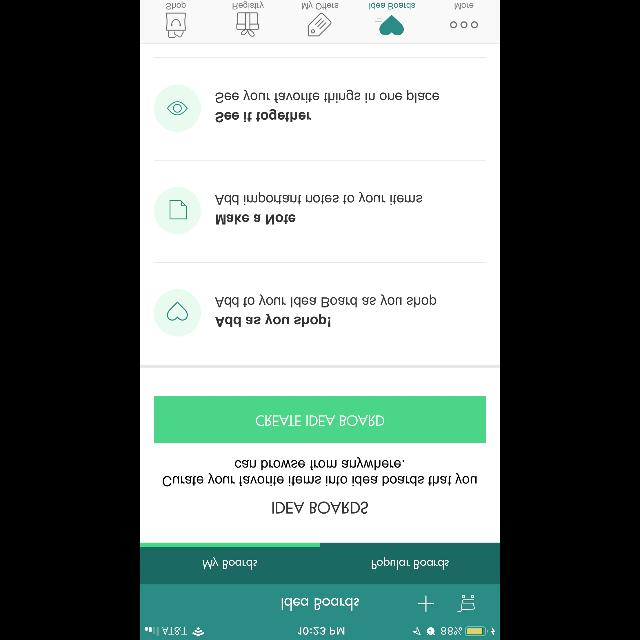icon: (154, 186, 202, 234), (154, 85, 202, 132), (154, 290, 202, 336), (374, 15, 404, 35), (308, 13, 332, 37), (237, 12, 260, 36), (166, 12, 186, 38), (458, 594, 474, 612), (418, 594, 434, 612), (450, 22, 478, 28)
text: (163, 457, 477, 487), (216, 294, 437, 308), (215, 192, 422, 205), (215, 90, 439, 102), (216, 314, 330, 326), (272, 501, 368, 514), (215, 110, 311, 122), (372, 556, 448, 570), (282, 598, 358, 610), (216, 213, 296, 224), (202, 556, 258, 570), (369, 2, 415, 10), (302, 2, 338, 10), (232, 2, 264, 10), (166, 2, 186, 10), (454, 3, 474, 9)
textbutton: (154, 396, 486, 442)
uppertaskbar: (140, 626, 500, 640)
